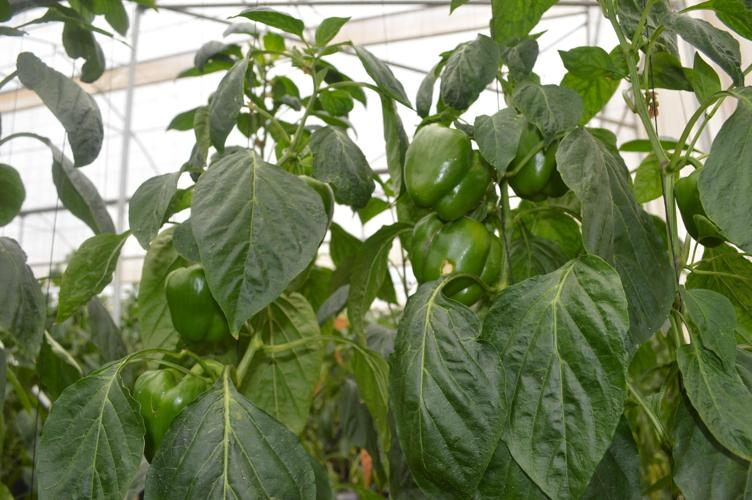BellPepper: (407, 213, 504, 303), (402, 125, 488, 225), (123, 363, 213, 445), (160, 263, 226, 350), (510, 132, 570, 202), (671, 172, 724, 243)
